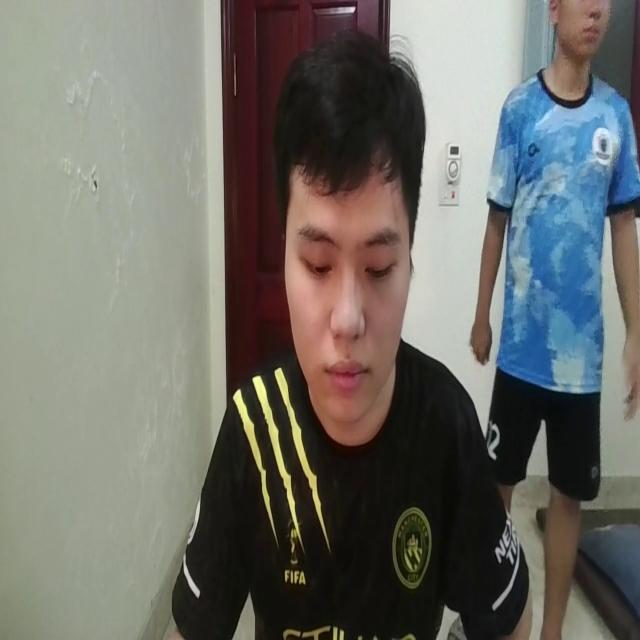extra_person: (470, 0, 640, 640)
student: (153, 35, 532, 640)
